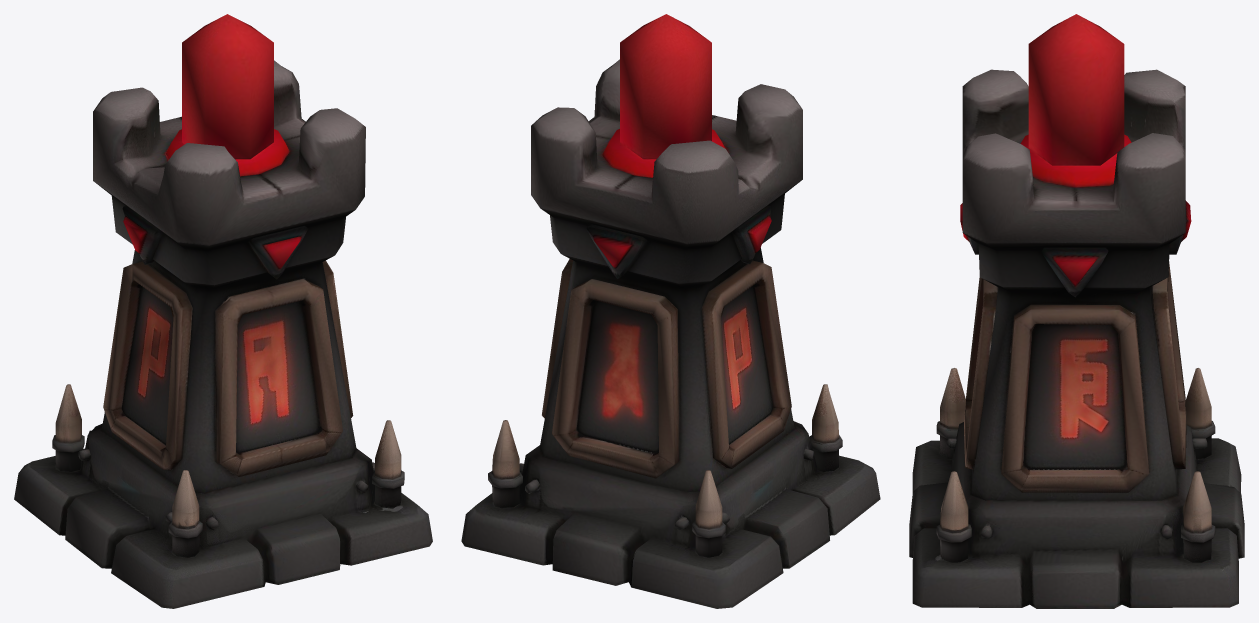
Rendered from tripo_convert_080a0488-e01a-476f-a568-ef9602b3993e.fbx.
3 views of the same model, side by side, from view 1: azimuth 30°, elevation 25°; view 2: azimuth 150°, elevation 25°; view 3: azimuth 270°, elevation 25° (orthographic). The views are drawn at different scales.
Parts seen in each view (by area): view 1: tripo_node_080a0488; view 2: tripo_node_080a0488; view 3: tripo_node_080a0488.
Boxes of the visible parts, x1=… form: tripo_node_080a0488: x1=14, y1=14, x2=432, y2=608; tripo_node_080a0488: x1=461, y1=14, x2=880, y2=608; tripo_node_080a0488: x1=909, y1=14, x2=1244, y2=608.
Bounding box in the file's own units: 0.5762 × 0.998 × 0.5762.
